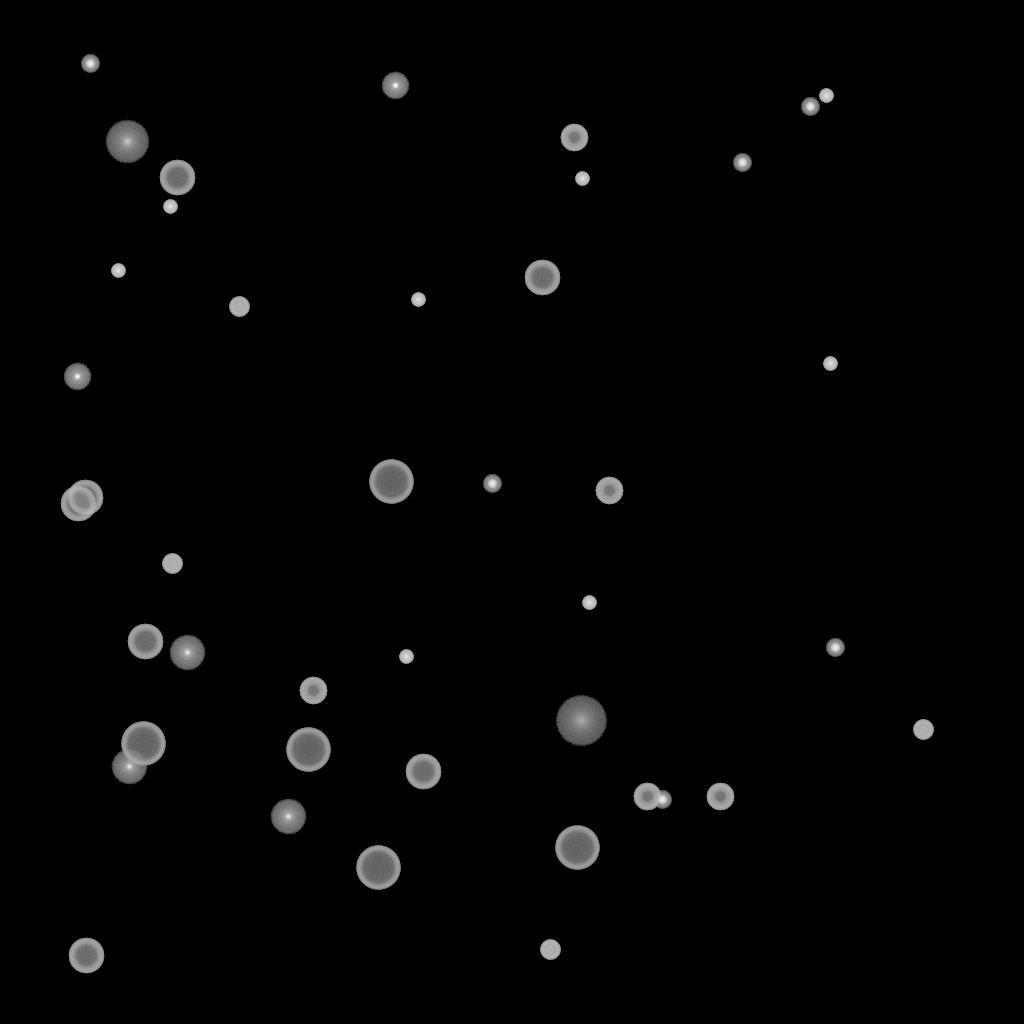depth:-10: (381, 72, 409, 100), (63, 363, 91, 391)
depth:-20: (801, 98, 819, 116), (733, 154, 751, 172), (653, 791, 671, 809), (81, 55, 99, 73), (483, 475, 501, 493), (826, 639, 844, 657)
depth:-30: (575, 172, 589, 186), (111, 264, 125, 278), (399, 650, 413, 664), (819, 89, 833, 103), (582, 596, 596, 610), (163, 200, 177, 214), (411, 293, 425, 307), (823, 357, 837, 371)
depth:-40: (540, 940, 560, 960), (913, 720, 933, 740), (229, 297, 249, 317), (162, 554, 182, 574)
depth:-50: (633, 783, 661, 811), (706, 783, 734, 811), (299, 677, 327, 705), (560, 124, 588, 152), (595, 477, 623, 505)
depth:-60: (405, 754, 441, 790), (60, 486, 96, 522), (68, 938, 104, 974), (524, 260, 560, 296), (67, 480, 103, 516), (127, 624, 163, 660), (159, 160, 195, 196)
depth:-70: (121, 722, 165, 766), (369, 460, 413, 504), (356, 846, 400, 890), (286, 728, 330, 772), (555, 826, 599, 870)
depth:0: (270, 799, 306, 835), (169, 635, 205, 671), (111, 749, 147, 785)
depth:10: (105, 120, 149, 164)
depth:20: (555, 696, 607, 746)
